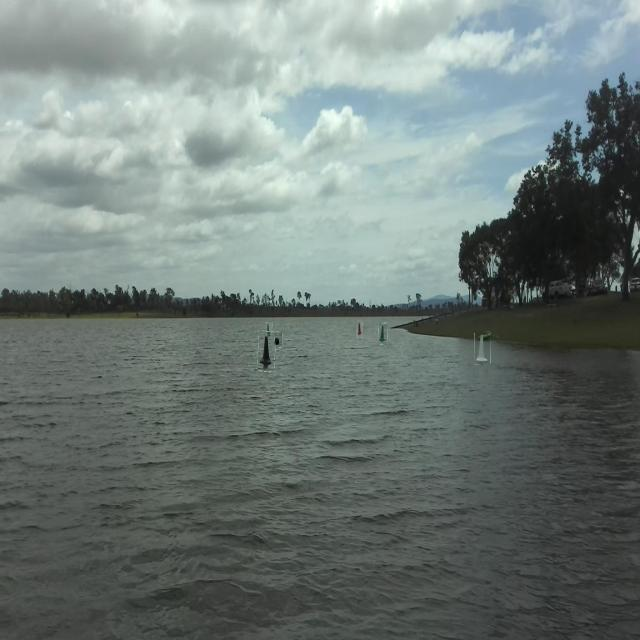Black_Buoy: (260, 332, 270, 369), (275, 332, 282, 348)
Green_Buoy: (378, 324, 392, 347)
Red_Buoy: (358, 320, 362, 340)
White_Buoy: (478, 332, 490, 364)
